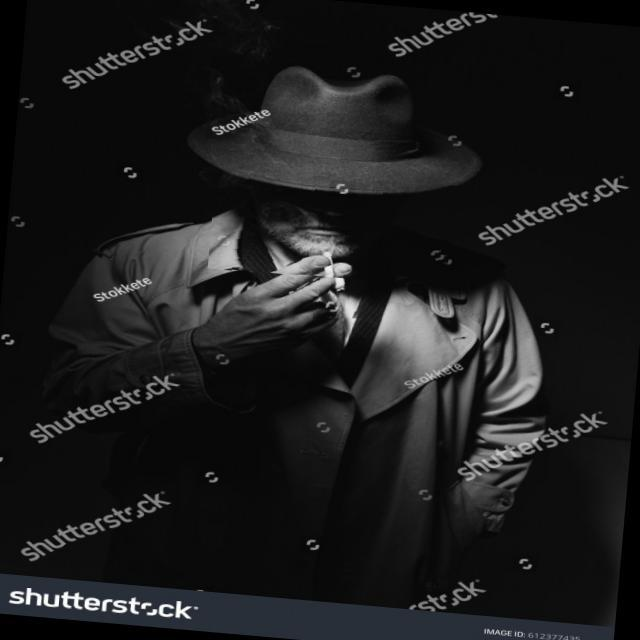cigarette: (312, 244, 375, 324)
